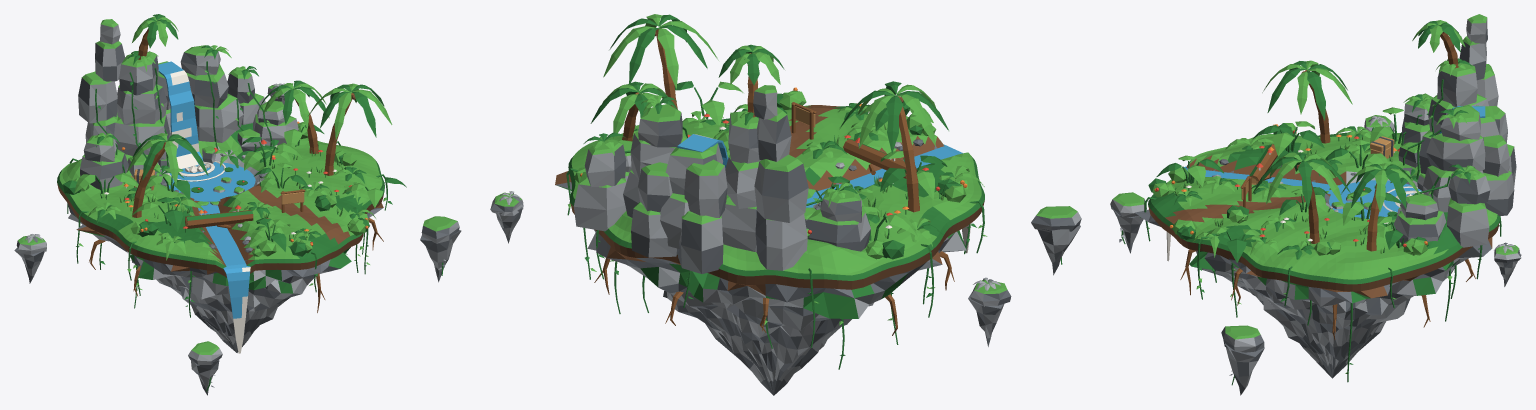
Rendered from jungle-waterfall-island.glb.
3 renders of one model, left to right at view 1: azimuth 30°, elevation 25°; view 2: azimuth 150°, elevation 25°; view 3: azimuth 270°, elevation 25°, orthographic. The views are drawn at different scales.
Visible parts, largest first — view 1: Island_Ground, Cliff, Palms, Giant_Leaves, Ferns, Stream_Water, Waterfall, Bushes, Vines, Pool_Water, FloatingRock_2, Ground_Details (+6 smaller); view 2: Island_Ground, Cliff, Palms, Ferns, Giant_Leaves, Bushes, Vines, FloatingRock_4, FloatingRock_1, Stream_Water, FloatingRock_3, Fallen_Log (+4 smaller); view 3: Island_Ground, Cliff, Palms, Giant_Leaves, Ferns, Bushes, Vines, FloatingRock_2, FloatingRock_4, Pool_Water, Ground_Details, FloatingRock_3 (+3 smaller).
Boxes of the visible parts, <box> form: Island_Ground: <box>57,123,384,352</box>; Cliff: <box>78,19,298,189</box>; Palms: <box>127,14,392,217</box>; Giant_Leaves: <box>74,125,406,251</box>; Ferns: <box>87,45,375,260</box>; Stream_Water: <box>198,202,250,353</box>; Waterfall: <box>158,61,203,168</box>; Bushes: <box>63,121,369,256</box>; Vines: <box>67,61,392,317</box>; Pool_Water: <box>165,162,255,201</box>; FloatingRock_2: <box>420,216,461,282</box>; Ground_Details: <box>100,139,351,252</box>; Island_Ground: <box>555,105,984,395</box>; Cliff: <box>573,85,870,273</box>; Palms: <box>590,14,948,212</box>; Ferns: <box>583,95,984,246</box>; Giant_Leaves: <box>674,81,947,242</box>; Bushes: <box>574,87,967,259</box>; Vines: <box>566,125,987,369</box>; FloatingRock_4: <box>1031,206,1081,275</box>; FloatingRock_1: <box>968,277,1011,346</box>; Stream_Water: <box>811,144,970,253</box>; FloatingRock_3: <box>490,191,523,243</box>; Fallen_Log: <box>843,139,917,178</box>; Island_Ground: <box>1135,131,1500,378</box>; Cliff: <box>1393,14,1516,247</box>; Palms: <box>1252,20,1465,251</box>; Giant_Leaves: <box>1156,107,1403,262</box>; Ferns: <box>1173,58,1479,259</box>; Bushes: <box>1148,123,1428,255</box>; Vines: <box>1140,79,1501,382</box>; FloatingRock_2: <box>1221,325,1264,395</box>; FloatingRock_4: <box>1110,192,1146,253</box>; Pool_Water: <box>1327,180,1421,218</box>; Ground_Details: <box>1175,132,1414,253</box>; FloatingRock_3: <box>1494,242,1521,286</box>.
Bounding box in the file's own units: 67.93 × 52.57 × 57.94.
